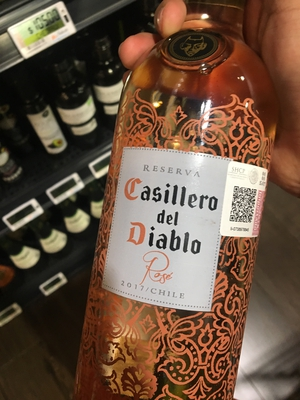casillero del diablo rose: (74, 23, 265, 400)
